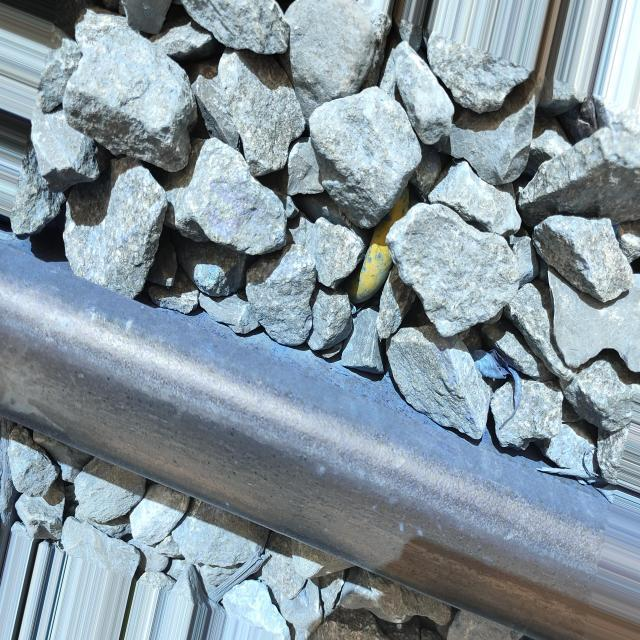Good Fasteners: (348, 188, 409, 302)
